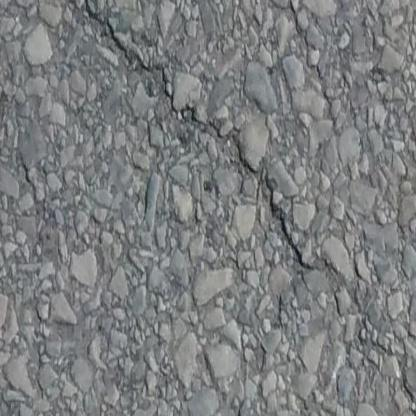Cracks: (68, 0, 416, 416)
